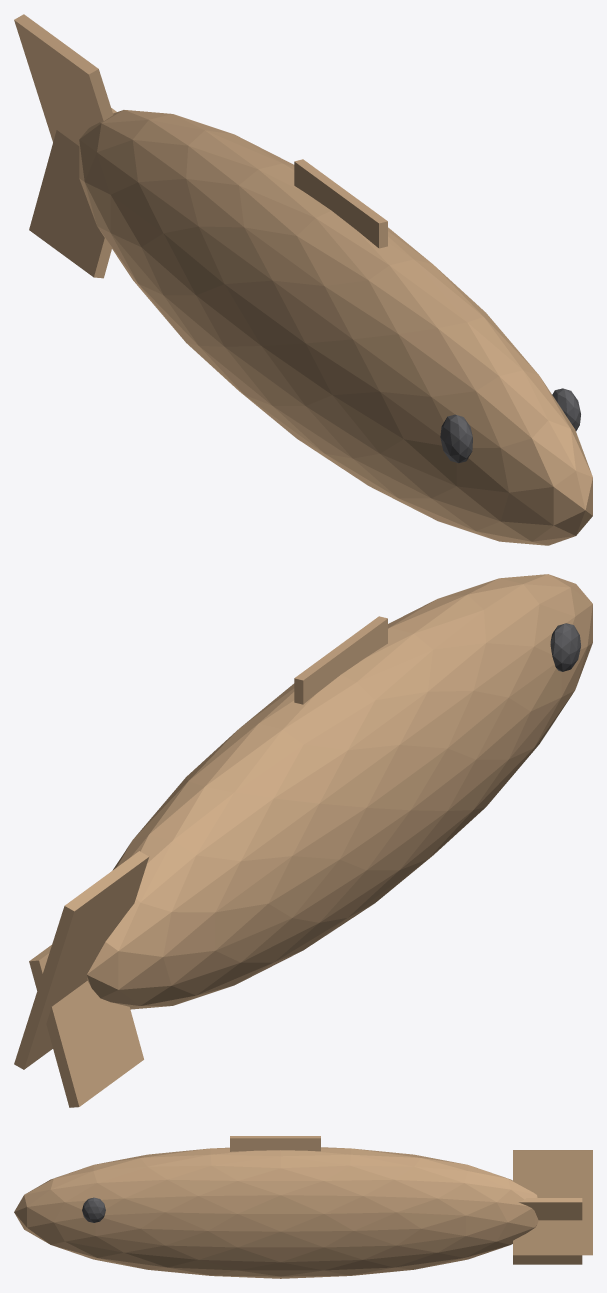
Rendered from Salmon.glb.
3 renders of one model, top to bottom at view 1: azimuth 30°, elevation 25°; view 2: azimuth 150°, elevation 25°; view 3: azimuth 270°, elevation 25°, orthographic. The views are drawn at different scales.
Parts seen in each view (by area): view 1: Salmon_0, Salmon_1; view 2: Salmon_0, Salmon_1; view 3: Salmon_0, Salmon_1.
Boxes of the visible parts, bbox=[...] form: Salmon_0: bbox=[14, 14, 592, 545]; Salmon_1: bbox=[440, 388, 580, 463]; Salmon_0: bbox=[14, 574, 592, 1107]; Salmon_1: bbox=[550, 623, 580, 671]; Salmon_0: bbox=[14, 1136, 592, 1278]; Salmon_1: bbox=[82, 1197, 105, 1222].
Bounding box in the file's own units: 0.076 × 0.1261 × 0.4774.
